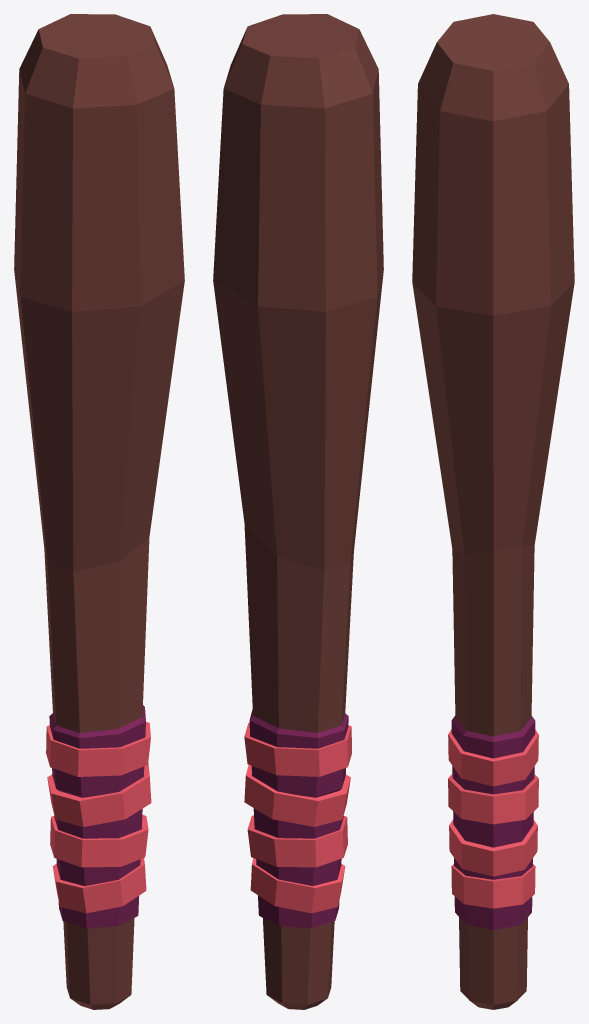
Rendered from Mace_01.fbx.
3 views of the same model, side by side, from view 1: azimuth 30°, elevation 25°; view 2: azimuth 150°, elevation 25°; view 3: azimuth 270°, elevation 25° (orthographic).
Visible parts, largest first — view 1: Mace 01; view 2: Mace 01; view 3: Mace 01.
Part boxes in pixels (box(x1,y1,x2,y2)): Mace 01: box(14, 14, 184, 1009); Mace 01: box(213, 14, 383, 1009); Mace 01: box(412, 14, 574, 1009).
Size of the model in its own units: 19.94 by 116 by 17.87.
